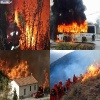fire: (15, 12, 36, 49), (55, 20, 87, 43), (0, 59, 30, 78), (78, 59, 100, 82), (42, 69, 50, 91)
